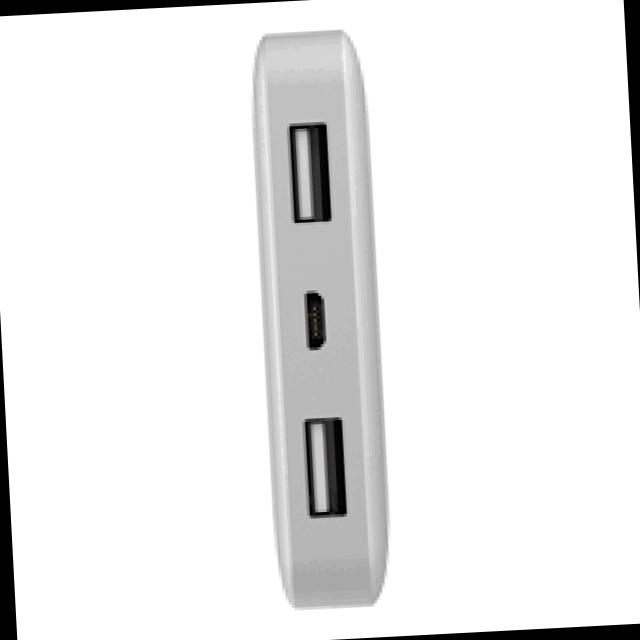power_bank: (238, 25, 410, 619)
